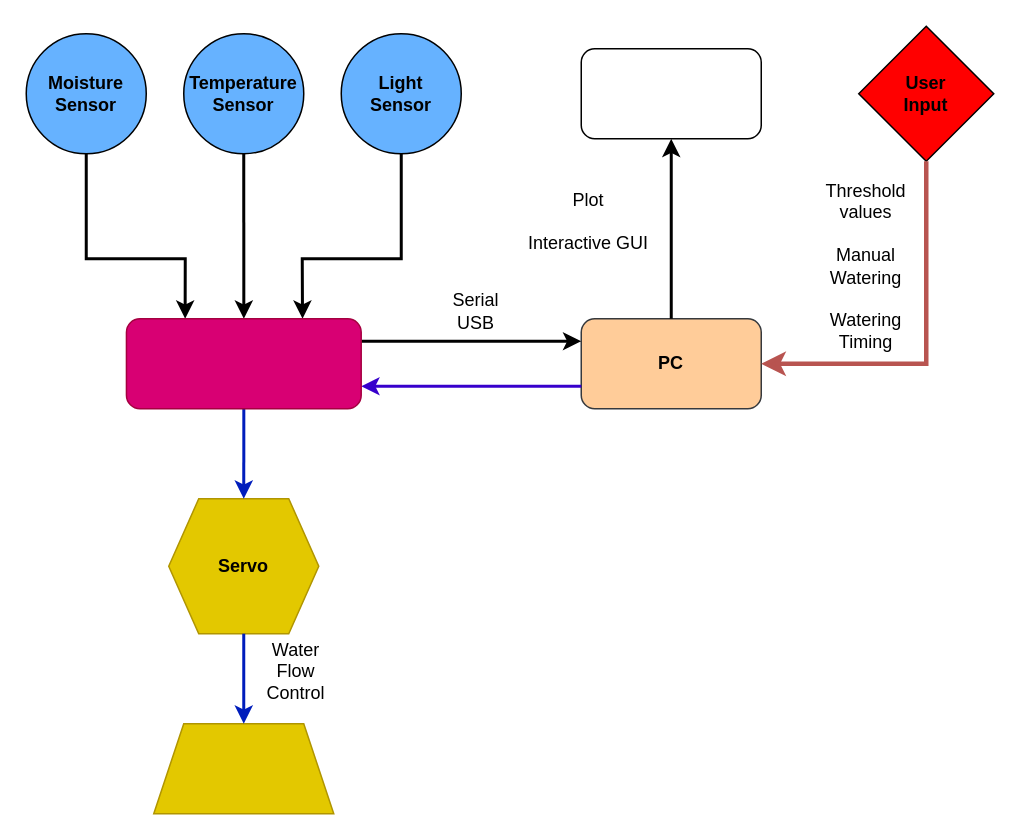
The diagram is 1020 pixels wide and 840 high, and some of its shapes have lost their labels. The shapes that lost their labels are listed below. From the top down, each one's box as (x1, y1, x2, y2) in pixels, then its label:
(580, 47, 761, 139): Monitor
(125, 317, 361, 409): Arduino
(152, 722, 334, 814): Valve
